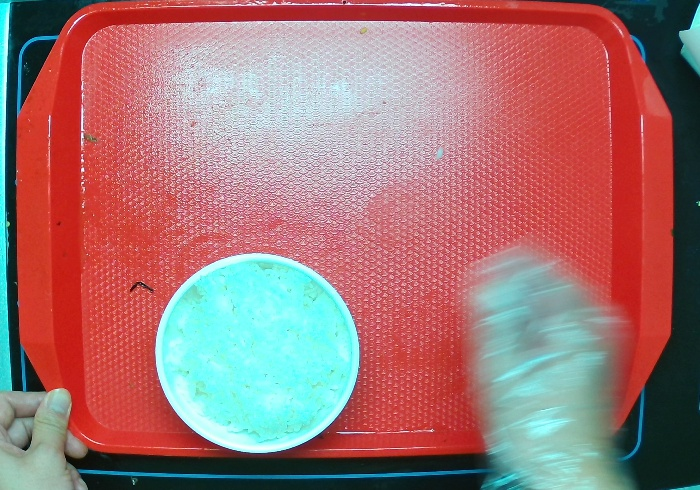YKMZ-Fan_Wan: (151, 252, 366, 457)
